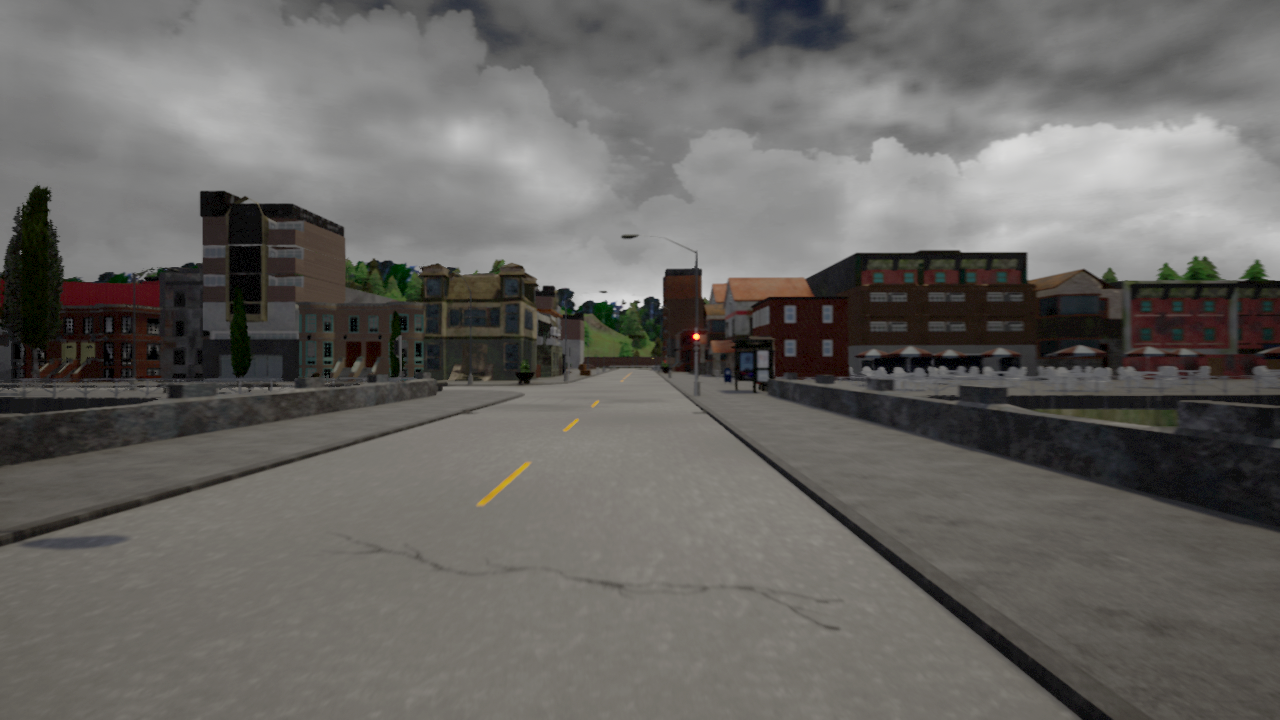red: (691, 332, 701, 352)
